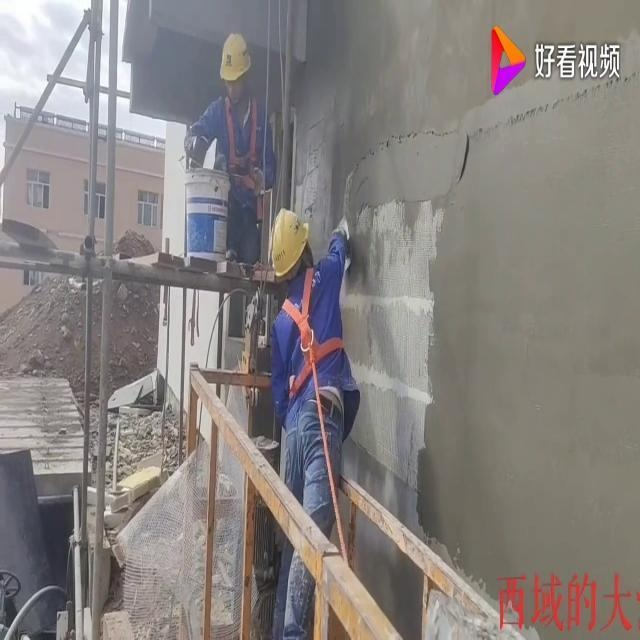Arnes_seguridad: (275, 261, 349, 404), (215, 87, 263, 198)
